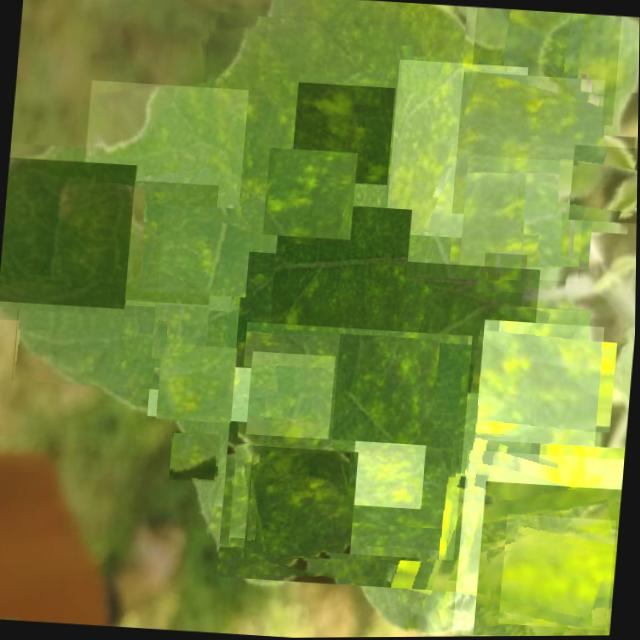leaf_spot: (217, 249, 540, 597), (228, 321, 472, 562), (195, 9, 428, 189), (71, 79, 247, 312), (453, 449, 626, 637), (384, 58, 527, 242), (451, 70, 605, 223), (474, 480, 622, 637), (0, 156, 136, 310), (269, 201, 412, 338), (467, 6, 620, 127), (87, 177, 217, 306), (475, 319, 604, 448), (458, 155, 587, 283), (287, 0, 434, 105), (11, 308, 179, 391), (499, 513, 616, 631), (244, 445, 358, 560), (331, 333, 440, 447), (289, 81, 395, 186), (147, 361, 293, 426), (157, 204, 252, 298), (262, 147, 357, 240), (444, 391, 535, 482), (245, 351, 335, 440), (156, 343, 236, 424), (350, 433, 427, 510), (567, 144, 638, 225), (150, 303, 209, 362), (169, 431, 220, 482), (482, 252, 527, 298)
